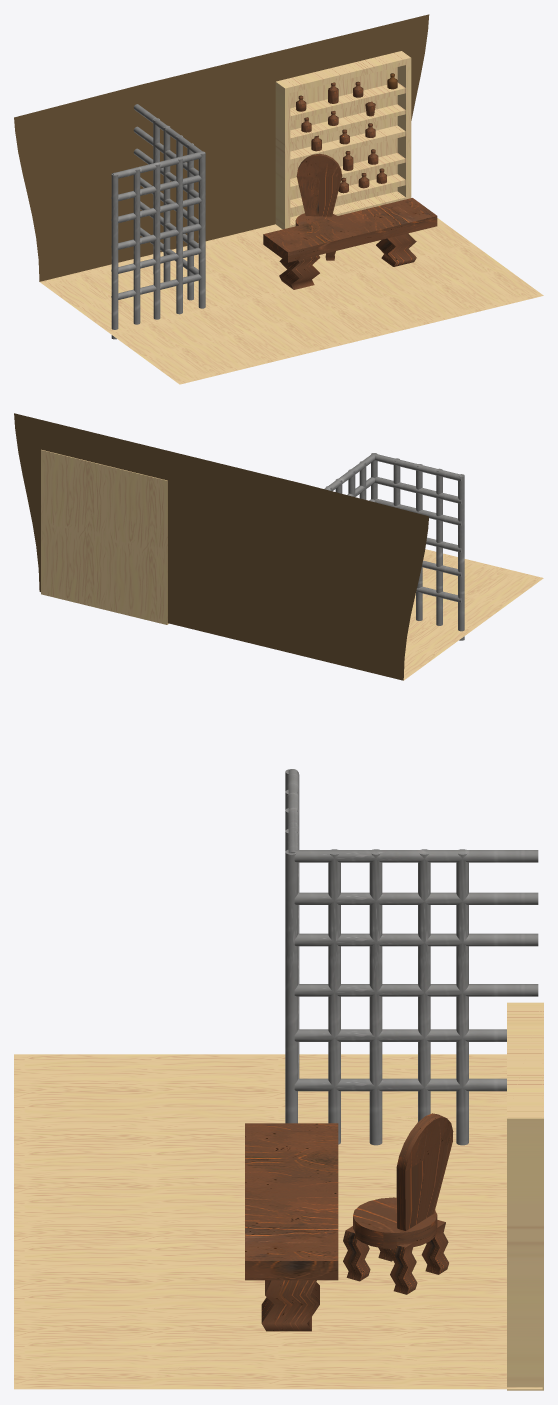
The model's file is jimboyinterior.fbx.
3 views of the same model, one above another, from view 1: azimuth 30°, elevation 25°; view 2: azimuth 150°, elevation 25°; view 3: azimuth 270°, elevation 25° (orthographic). The views are drawn at different scales.
Parts seen in each view (by area): view 1: polySurface10; view 2: polySurface10; view 3: polySurface10.
Boxes of the visible parts, left/top/right/bottom form: polySurface10: left=14, top=14, right=543, bottom=384; polySurface10: left=14, top=413, right=543, bottom=680; polySurface10: left=14, top=769, right=543, bottom=1390.
Size of the model in its own units: 9.68 by 4.05 by 5.68.
5 materials, 3 textured.
